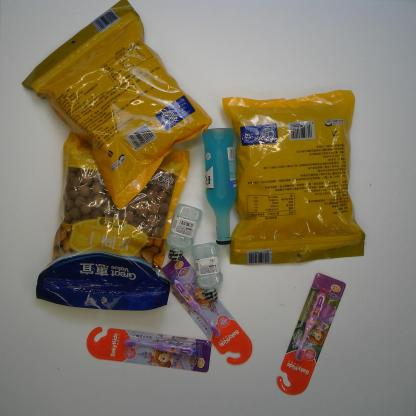Alcohol: (201, 127, 239, 246)
Dried Food: (20, 0, 214, 213), (33, 131, 192, 312), (221, 89, 366, 266)
Personal Hygiene: (162, 254, 253, 366), (276, 271, 347, 396), (85, 326, 213, 373), (166, 203, 203, 262), (191, 242, 224, 301)
